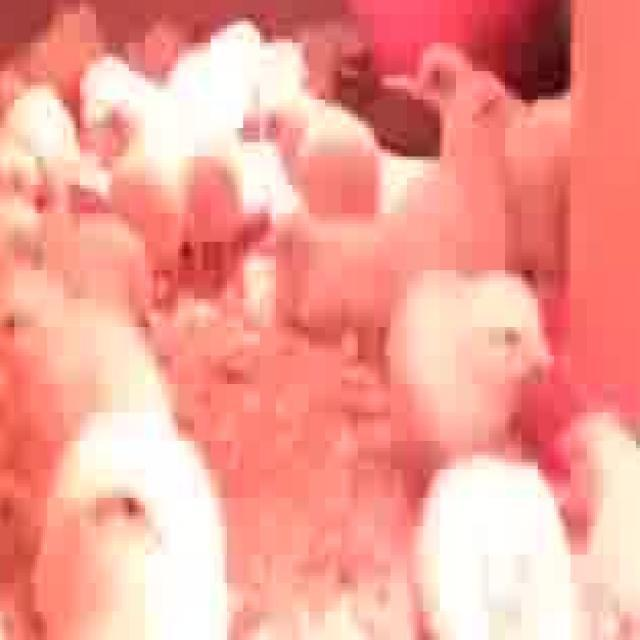poussin: (30, 418, 239, 640), (410, 467, 570, 640), (402, 267, 557, 445), (0, 284, 192, 421), (403, 69, 516, 278), (123, 134, 269, 262), (2, 182, 154, 298), (269, 96, 391, 208), (286, 216, 393, 334), (0, 99, 74, 199), (84, 78, 200, 136)
